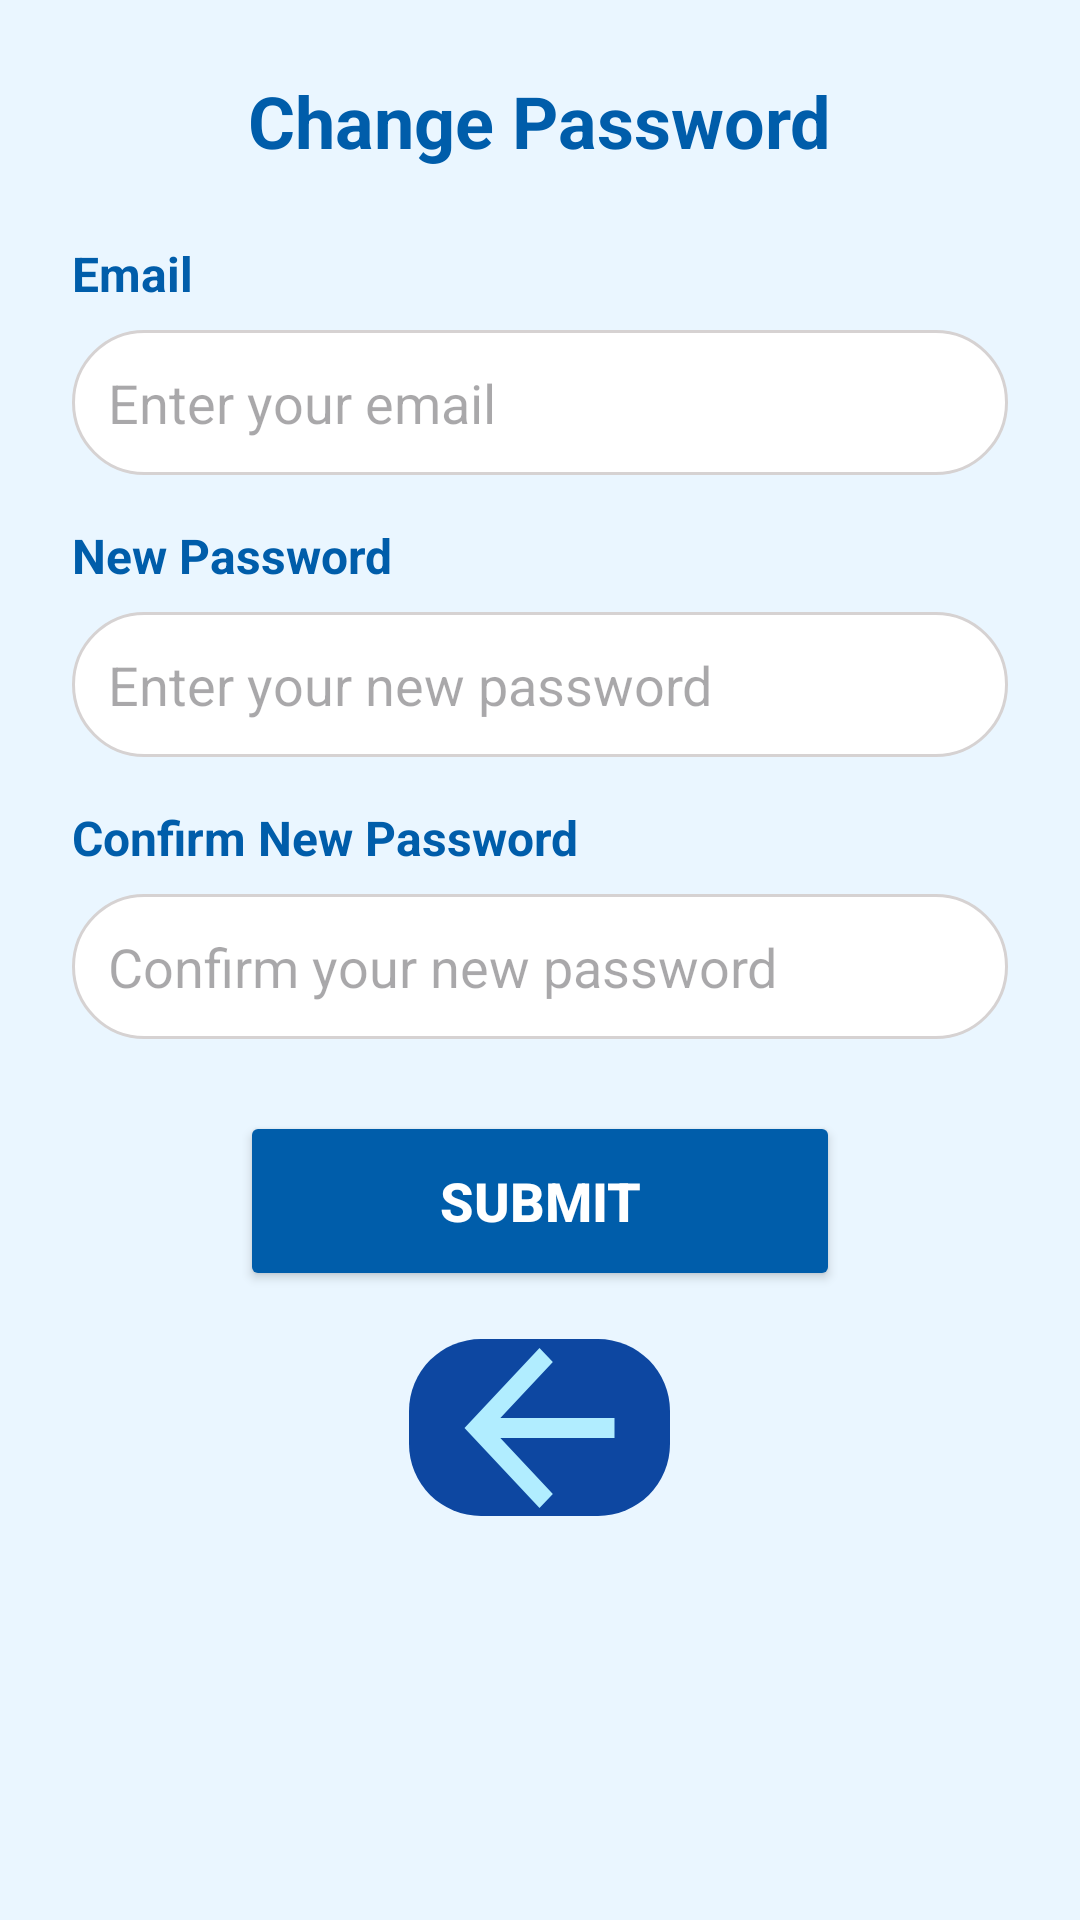

Icons on this 1080 × 1920 Android screen, each with the point to tap as (x,y):
arrow back: (539,1427)
